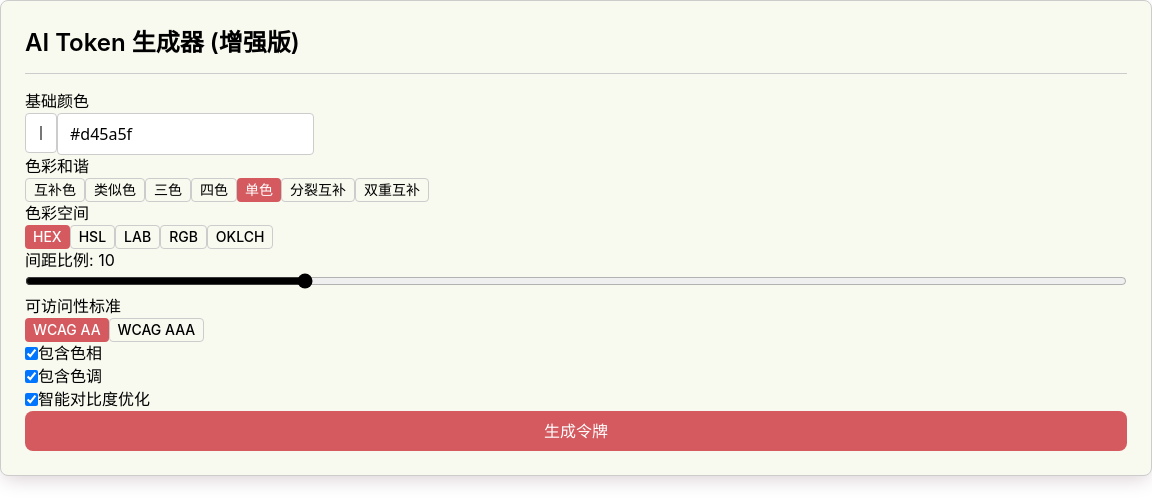
Test: AITokenGeneratorEnhanced › 应该允许启用/禁用包含色相
Click the checkbox labelled "包含色相": (32, 354) [25,347,38,360]
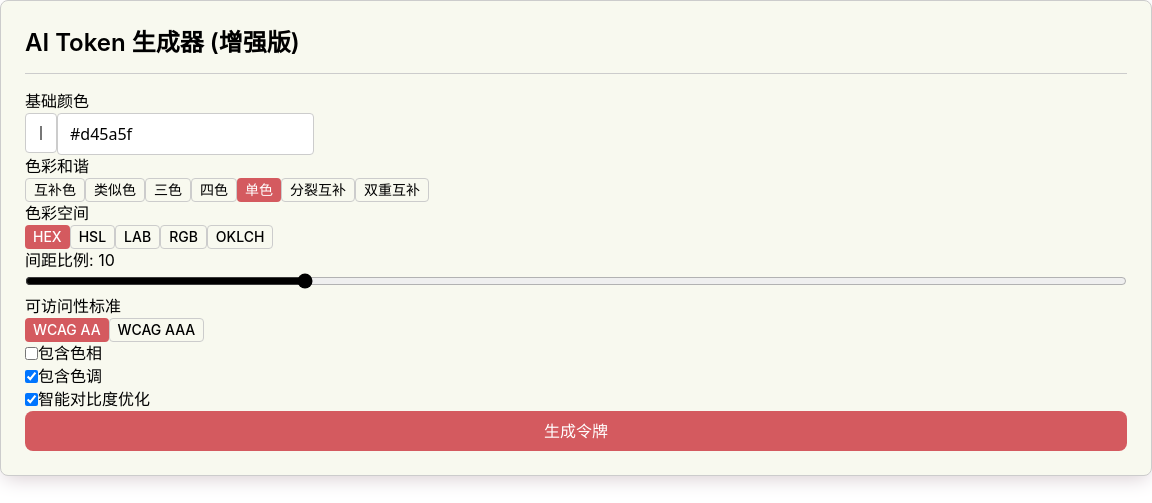
Expected: the checkbox labelled "包含色相" is not checked, [25,347,38,360]
